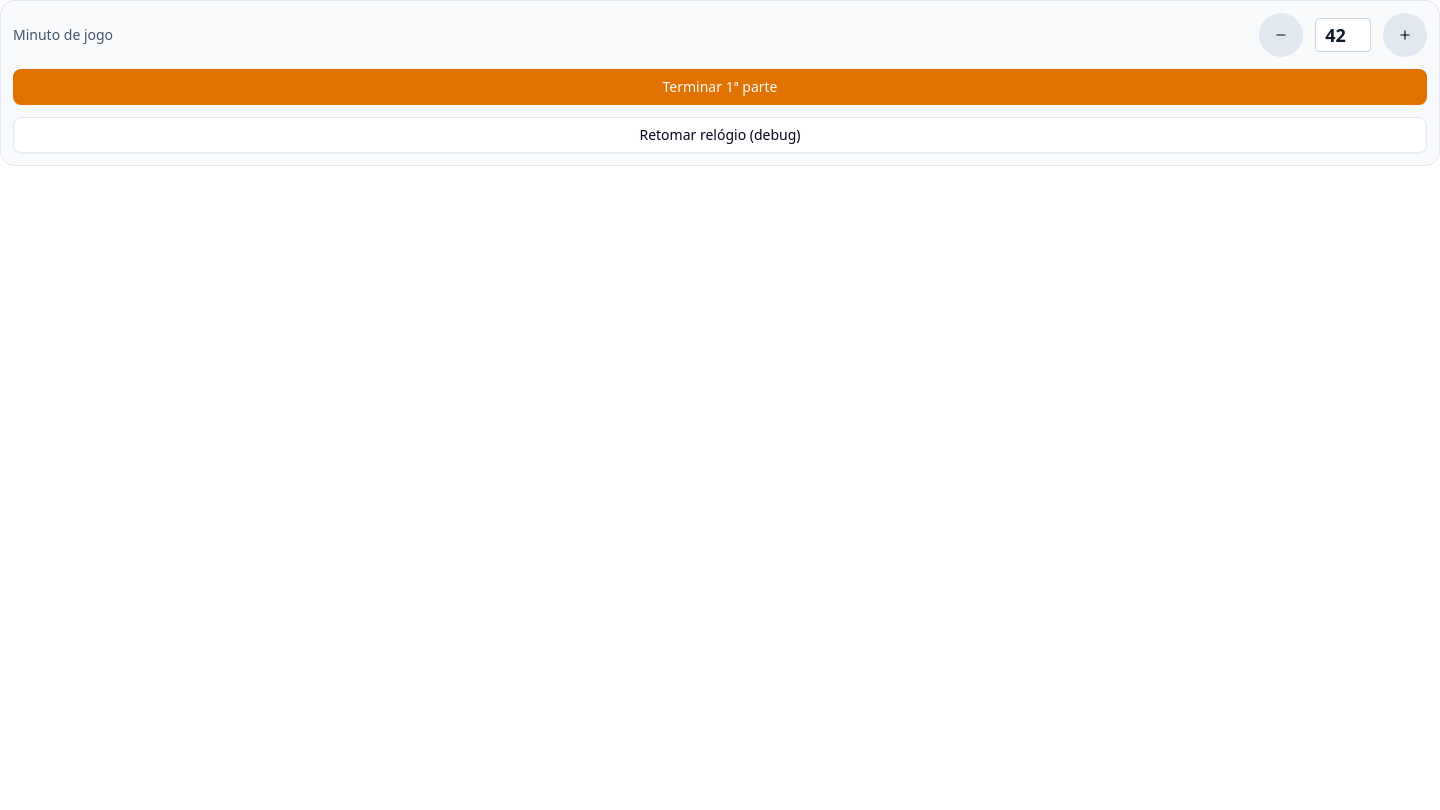
it: ClockControls — confirmation dialog › [#5] no momento da abertura (antes do rAF resolver), o botão 'Sim, terminar' está disabled
What coordinates should you click on to do the following:
click the button "Terminar 1ª parte"
I would click on:
 (720, 87)
Its box is [13, 69, 1427, 105].
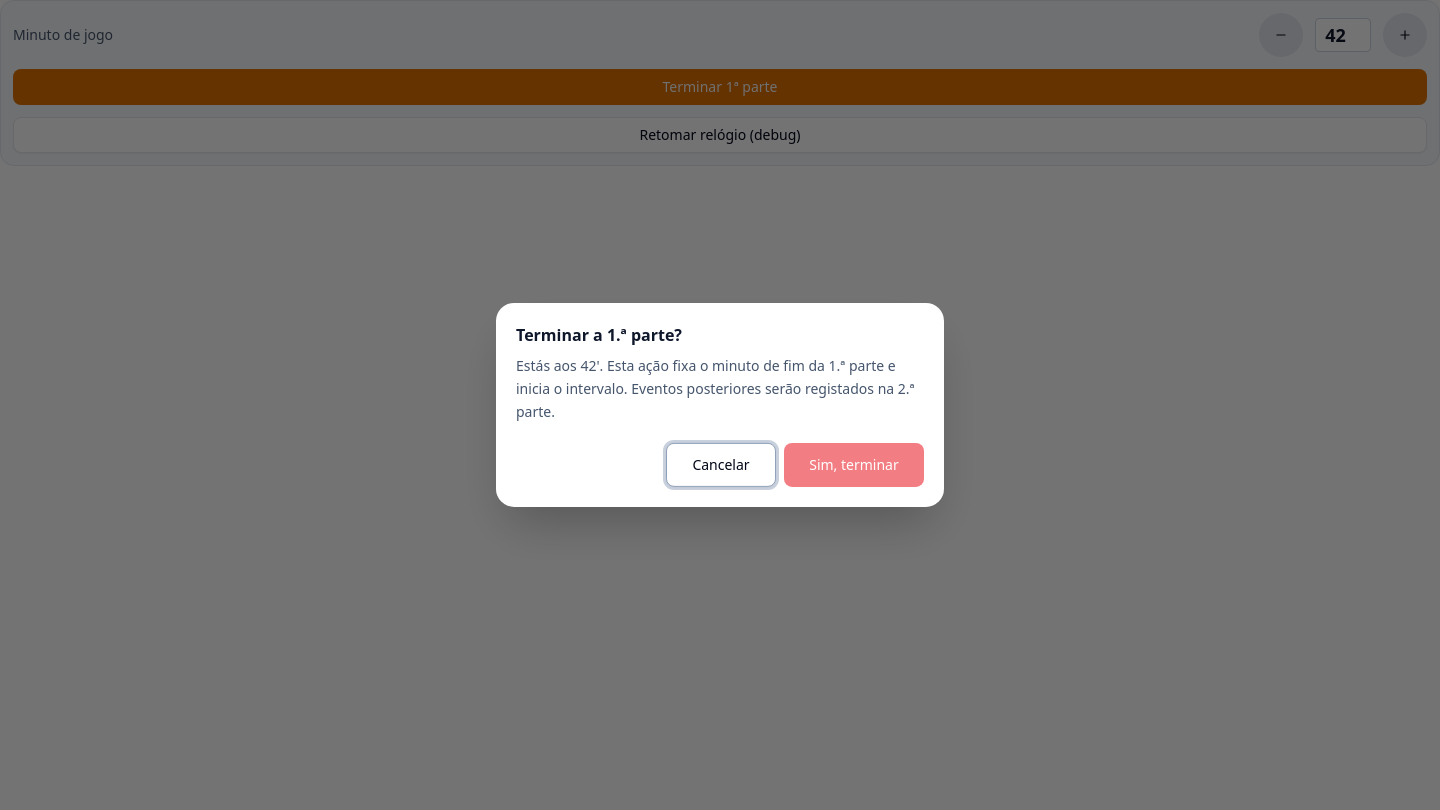
Expected: the dialog is shown, [496, 303, 944, 507]
Expected: the button "Sim, terminar" is disabled, [784, 443, 924, 487]
